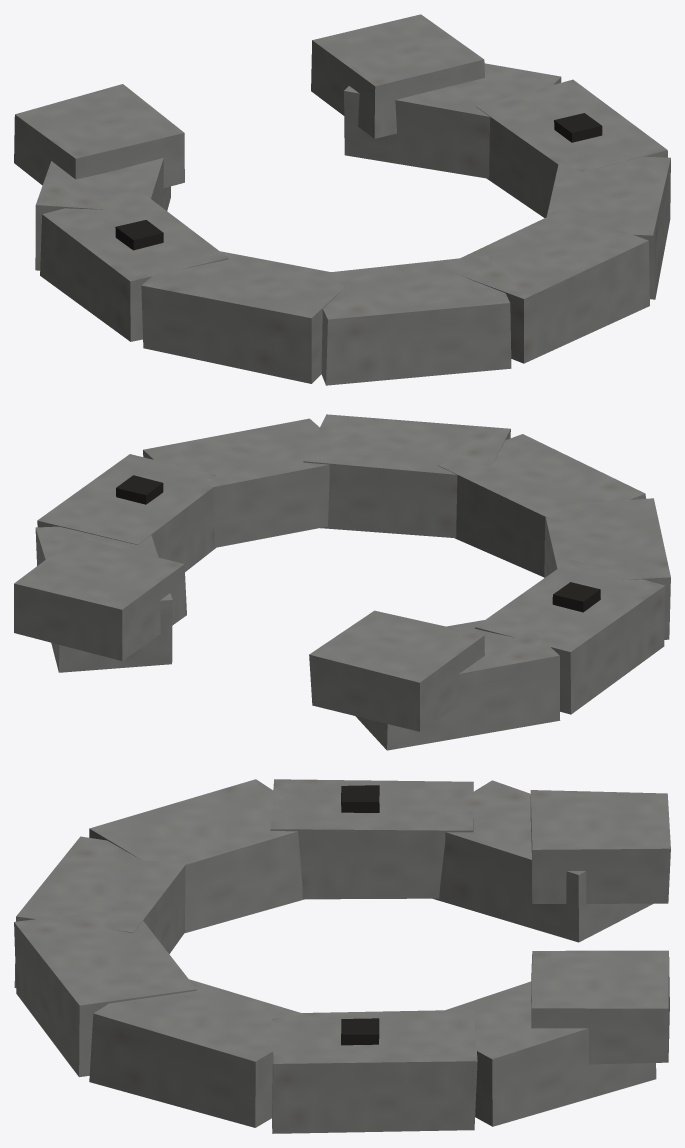
The model's file is horseshoe.glb.
3 views of the same model, one above another, from view 1: azimuth 30°, elevation 25°; view 2: azimuth 150°, elevation 25°; view 3: azimuth 270°, elevation 25° (orthographic). The views are drawn at different scales.
Visible parts, largest first — view 1: Horseshoe; view 2: Horseshoe; view 3: Horseshoe.
Part boxes in pixels (x1,y1,x2,y2): Horseshoe: (14,14,670,385); Horseshoe: (14,414,670,750); Horseshoe: (14,779,670,1133).
Size of the model in its own units: 0.2474 by 0.0378 by 0.2403.
2 materials, 1 textured.
